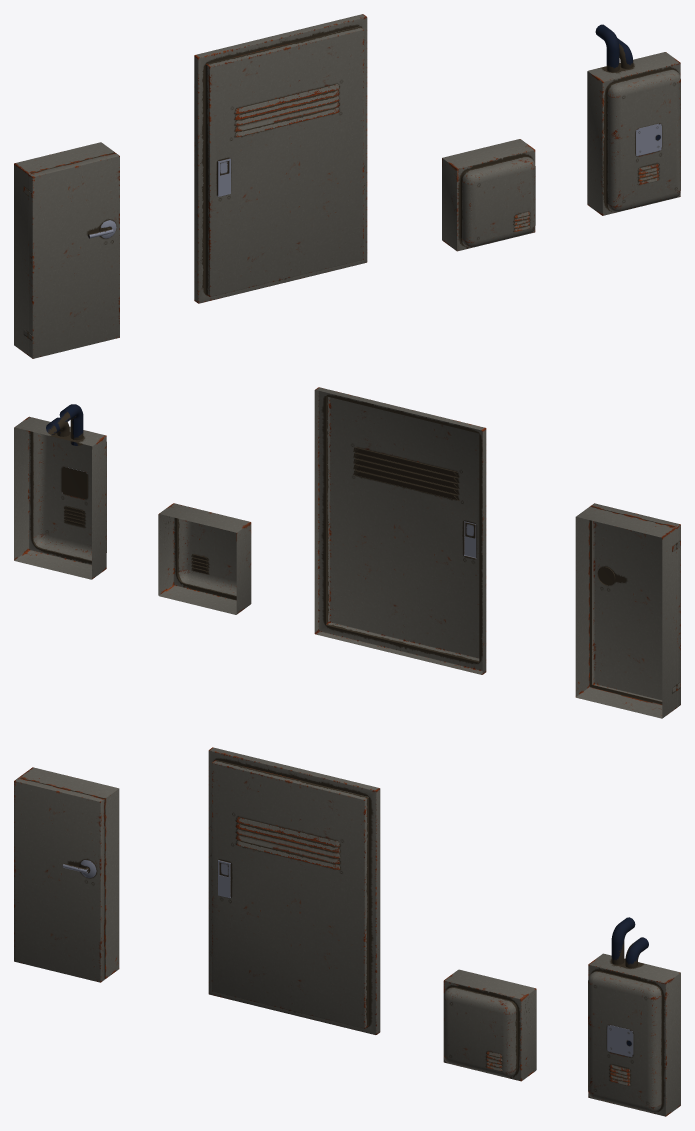
File: box_building_electrical.glb
3 renders of one model, top to bottom at view 1: azimuth 30°, elevation 25°; view 2: azimuth 150°, elevation 25°; view 3: azimuth 330°, elevation 25°, orthographic.
Parts seen in each view (by area): view 1: 01_3_Mat_0, 01_4_Mat_0, 01_1_Mat_0, 01_2_Mat_0; view 2: 01_3_Mat_0, 01_4_Mat_0, 01_1_Mat_0, 01_2_Mat_0; view 3: 01_3_Mat_0, 01_4_Mat_0, 01_1_Mat_0, 01_2_Mat_0.
Part boxes in pixels (<box>): 01_3_Mat_0: <box>194,14,367,303</box>; 01_4_Mat_0: <box>14,142,119,358</box>; 01_1_Mat_0: <box>587,24,680,215</box>; 01_2_Mat_0: <box>442,139,535,251</box>; 01_3_Mat_0: <box>314,387,486,674</box>; 01_4_Mat_0: <box>575,503,680,718</box>; 01_1_Mat_0: <box>14,404,106,579</box>; 01_2_Mat_0: <box>158,503,251,614</box>; 01_3_Mat_0: <box>208,747,380,1034</box>; 01_4_Mat_0: <box>14,767,119,982</box>; 01_1_Mat_0: <box>588,917,680,1116</box>; 01_2_Mat_0: <box>443,969,536,1081</box>.
Size of the model in its own units: 381 by 137 by 30.16.
Materials: 1 (1 with a texture image).
